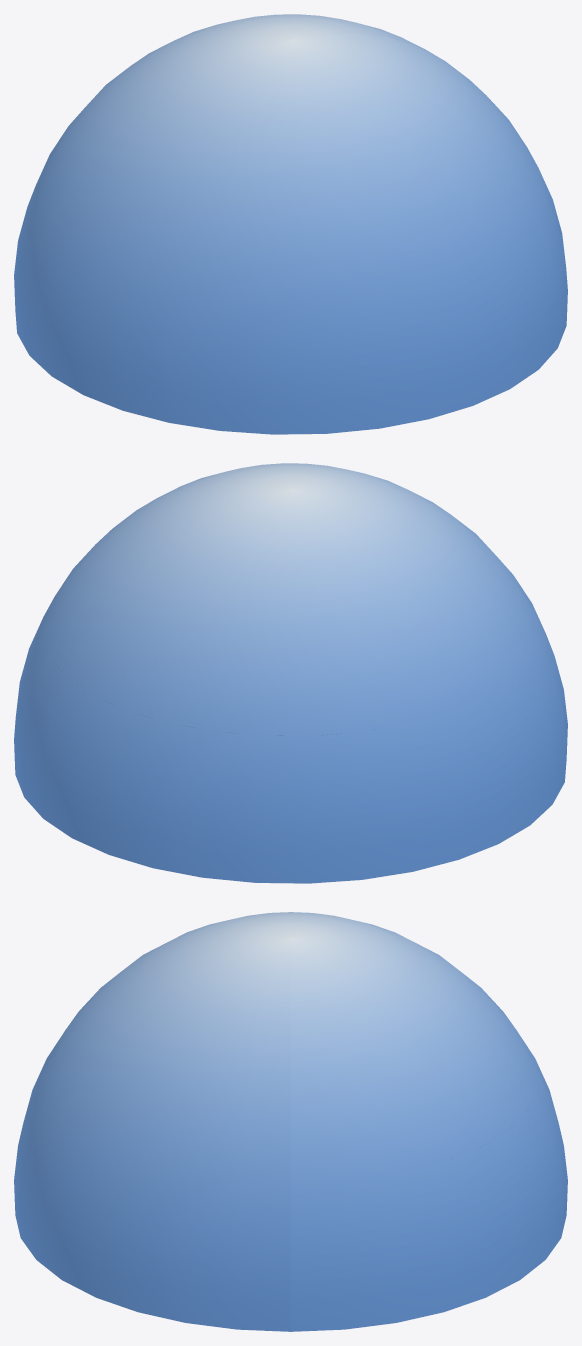
Rendered from seoul.glb.
3 views of the same model, one above another, from view 1: azimuth 30°, elevation 25°; view 2: azimuth 150°, elevation 25°; view 3: azimuth 270°, elevation 25° (orthographic).
Visible parts, largest first — view 1: SKY_하늘; view 2: SKY_하늘; view 3: SKY_하늘.
Boxes of the visible parts, x1,y1,x2,y2 form: SKY_하늘: [14, 14, 567, 434]; SKY_하늘: [14, 463, 567, 883]; SKY_하늘: [14, 912, 567, 1331].
Bounding box in the file's own units: 959 × 530 × 959.
81 materials, 24 textured.
